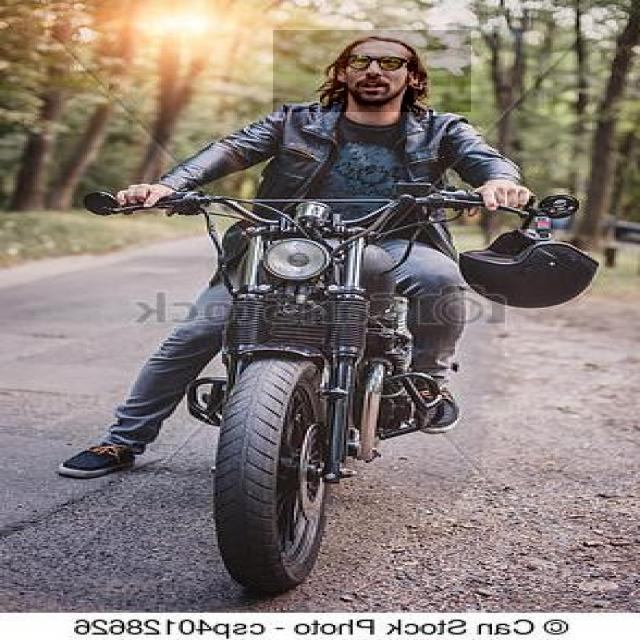No_Helmet: (273, 30, 471, 112)
